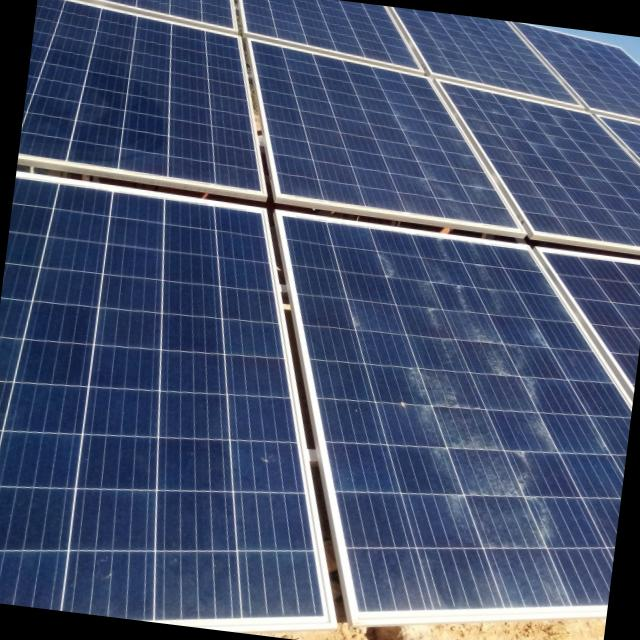faulty: (290, 213, 631, 615), (260, 42, 515, 224), (25, 0, 265, 193), (432, 82, 640, 244)
no faulty: (0, 183, 317, 616)
